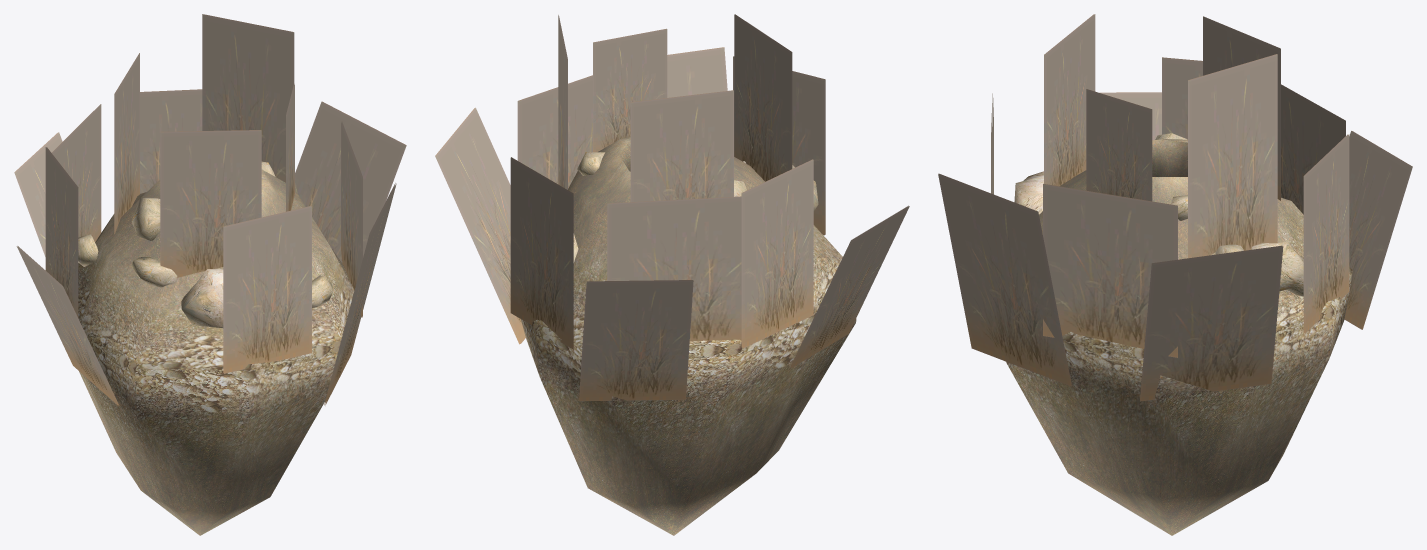
File: poi_all_lair_antpile_light_l0.fbx
3 renders of one model, left to right at view 1: azimuth 30°, elevation 25°; view 2: azimuth 150°, elevation 25°; view 3: azimuth 270°, elevation 25°, orthographic. The views are drawn at different scales.
Parts seen in each view (by area): view 1: mesh_node; view 2: mesh_node; view 3: mesh_node.
Part boxes in pixels (bbox=[...]): mesh_node: bbox=[14, 14, 406, 535]; mesh_node: bbox=[435, 14, 909, 535]; mesh_node: bbox=[938, 14, 1412, 535].
Size of the model in its own units: 6.11 by 7.32 by 6.19.
